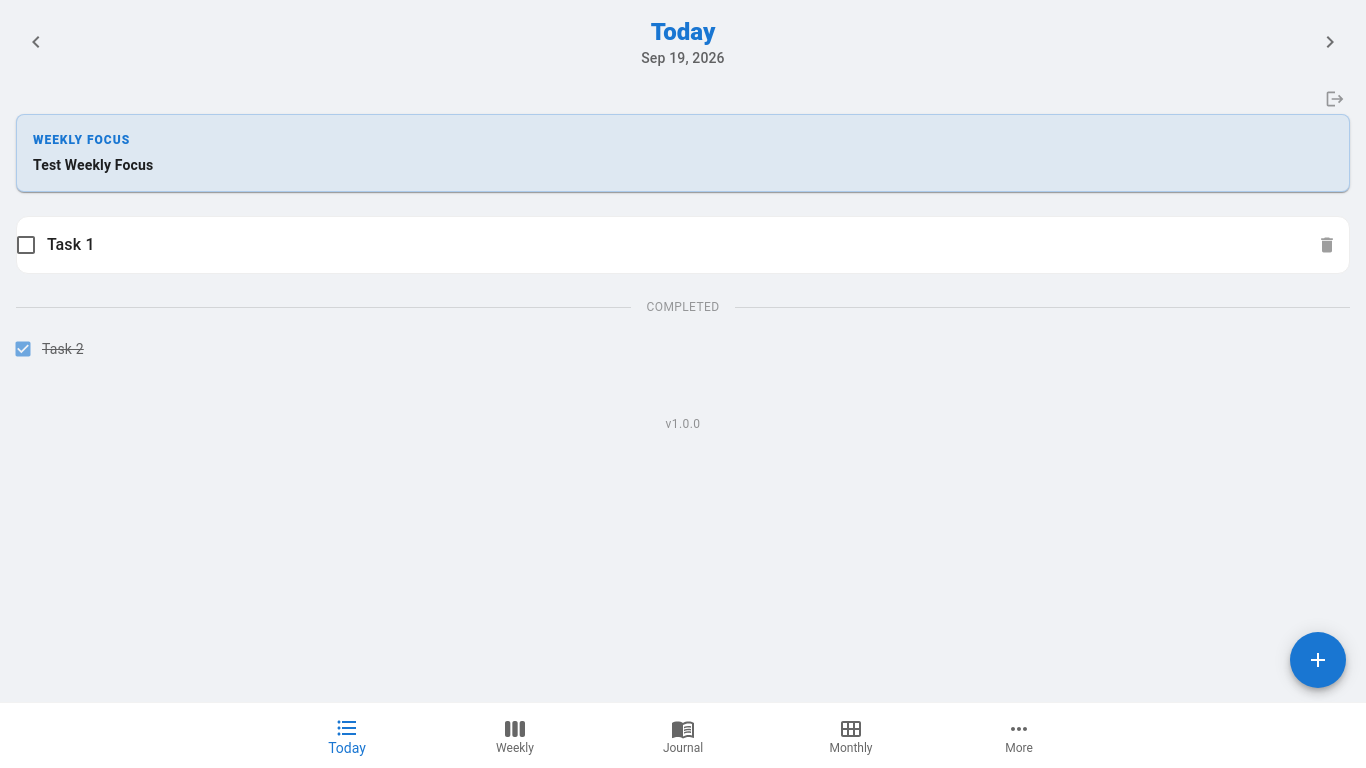
MobileApp Component › navigates to Monthly view and shows Year Focus
Click the button "Monthly".
click(851, 736)  # box [767, 703, 935, 767]
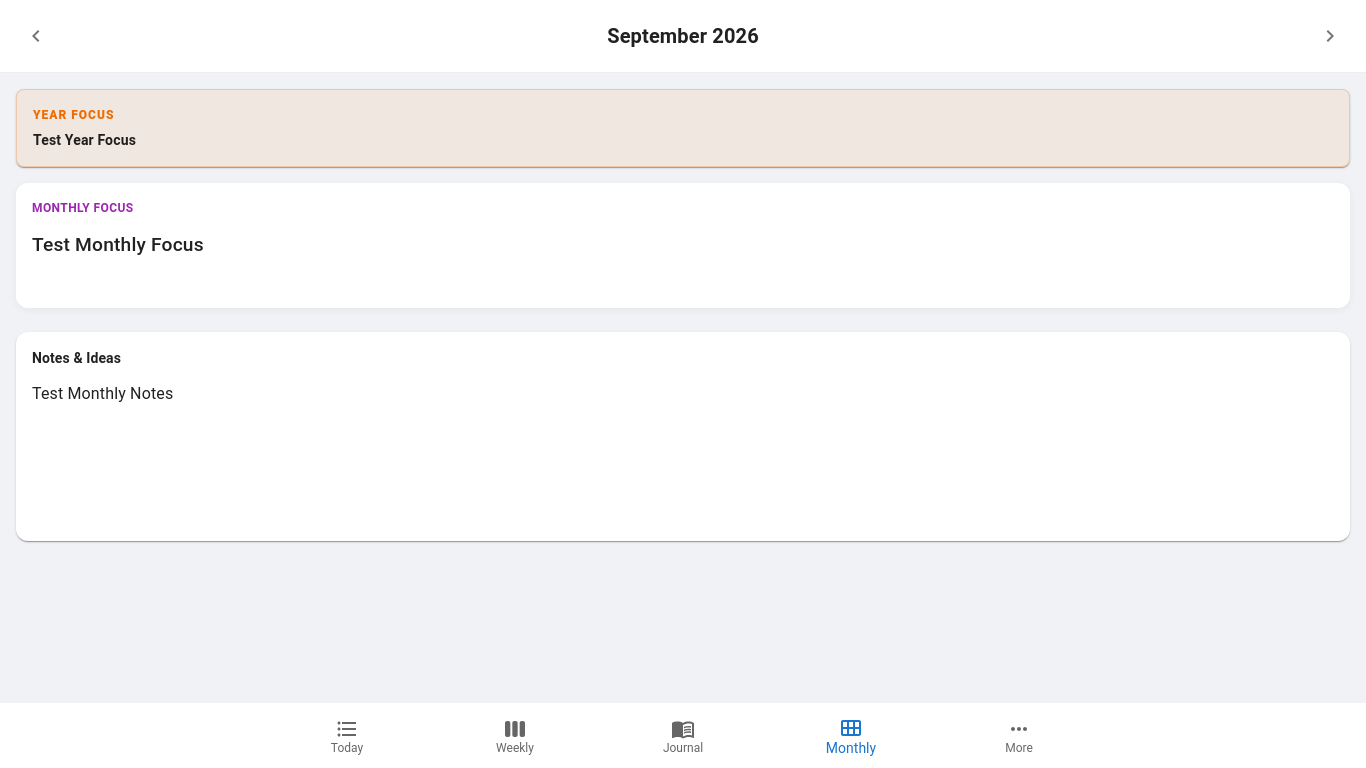
expect the heading "September 2026" is shown: met, box [607, 20, 759, 52]
expect the text "Year Focus" is shown: met, box [33, 108, 114, 122]
expect the text "Test Year Focus" is shown: met, box [33, 132, 136, 148]
